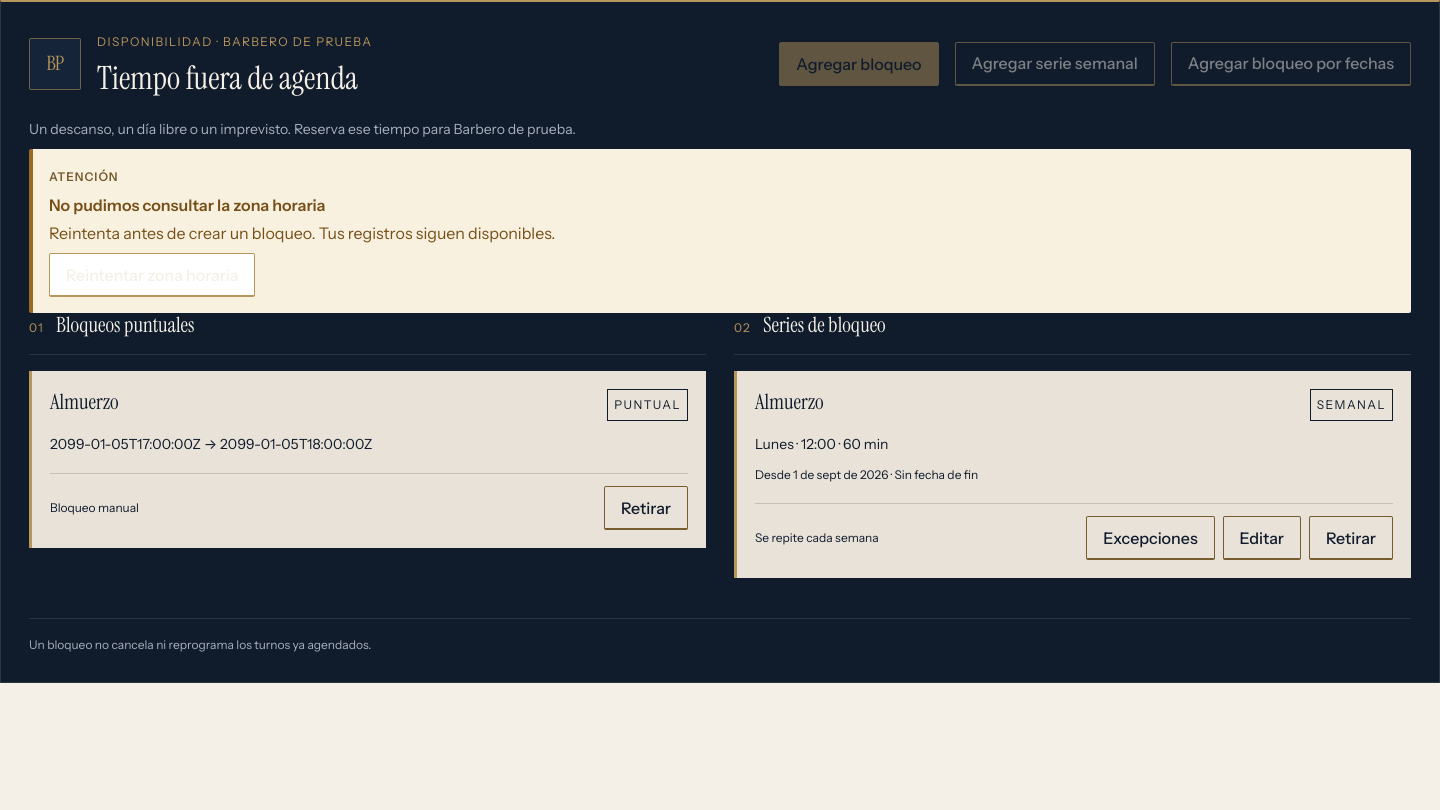
Test: BarberBlocksPanel · avisos emergentes (DEC-095) › disables creation when the timezone is unavailable and allows a safe retry
Expected: the button "Agregar bloqueo" is disabled, [779, 42, 938, 86]
Click the button "Reintentar zona horaria" at (152, 275), box [49, 253, 255, 297]
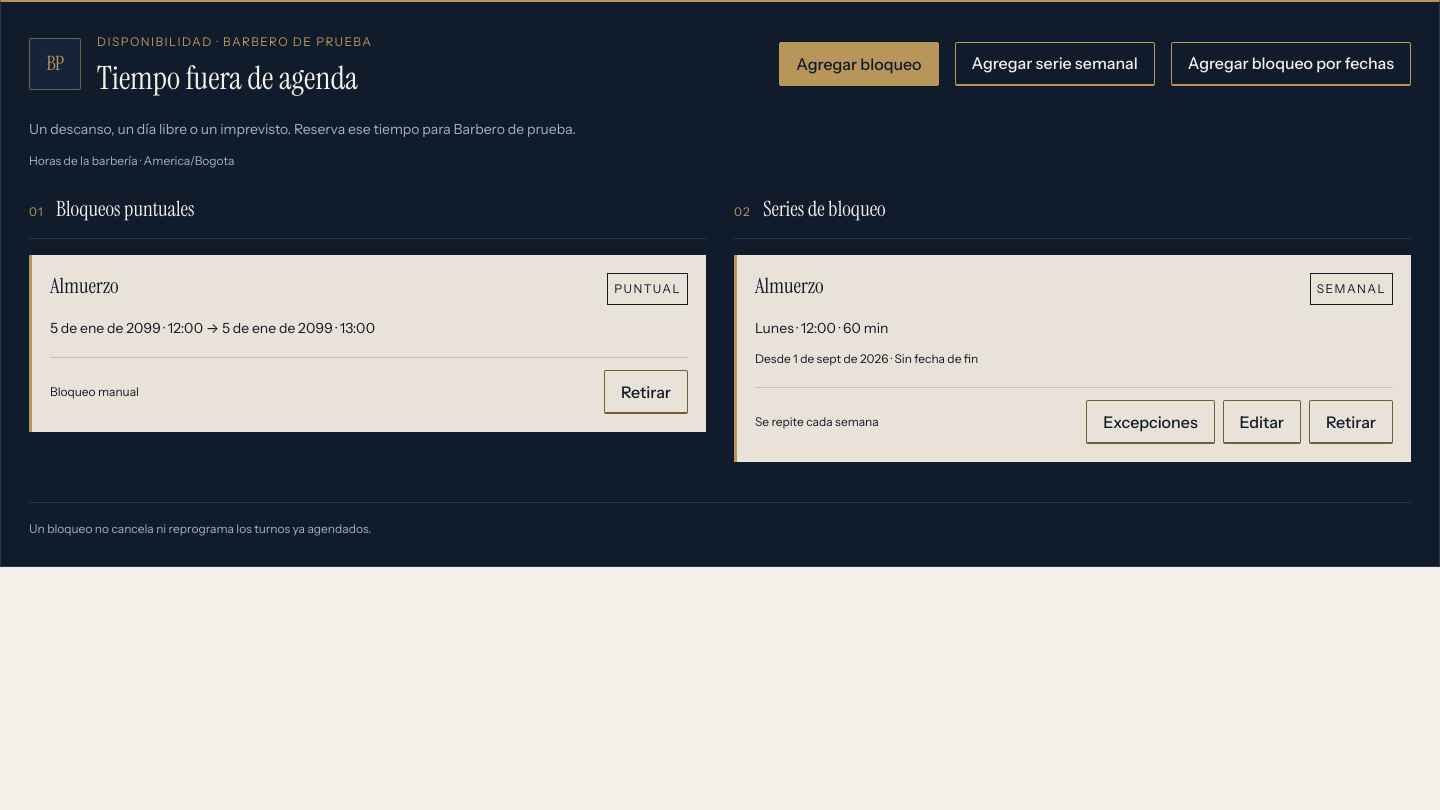
Expected: the button "Agregar bloqueo" is enabled, [779, 42, 938, 86]
